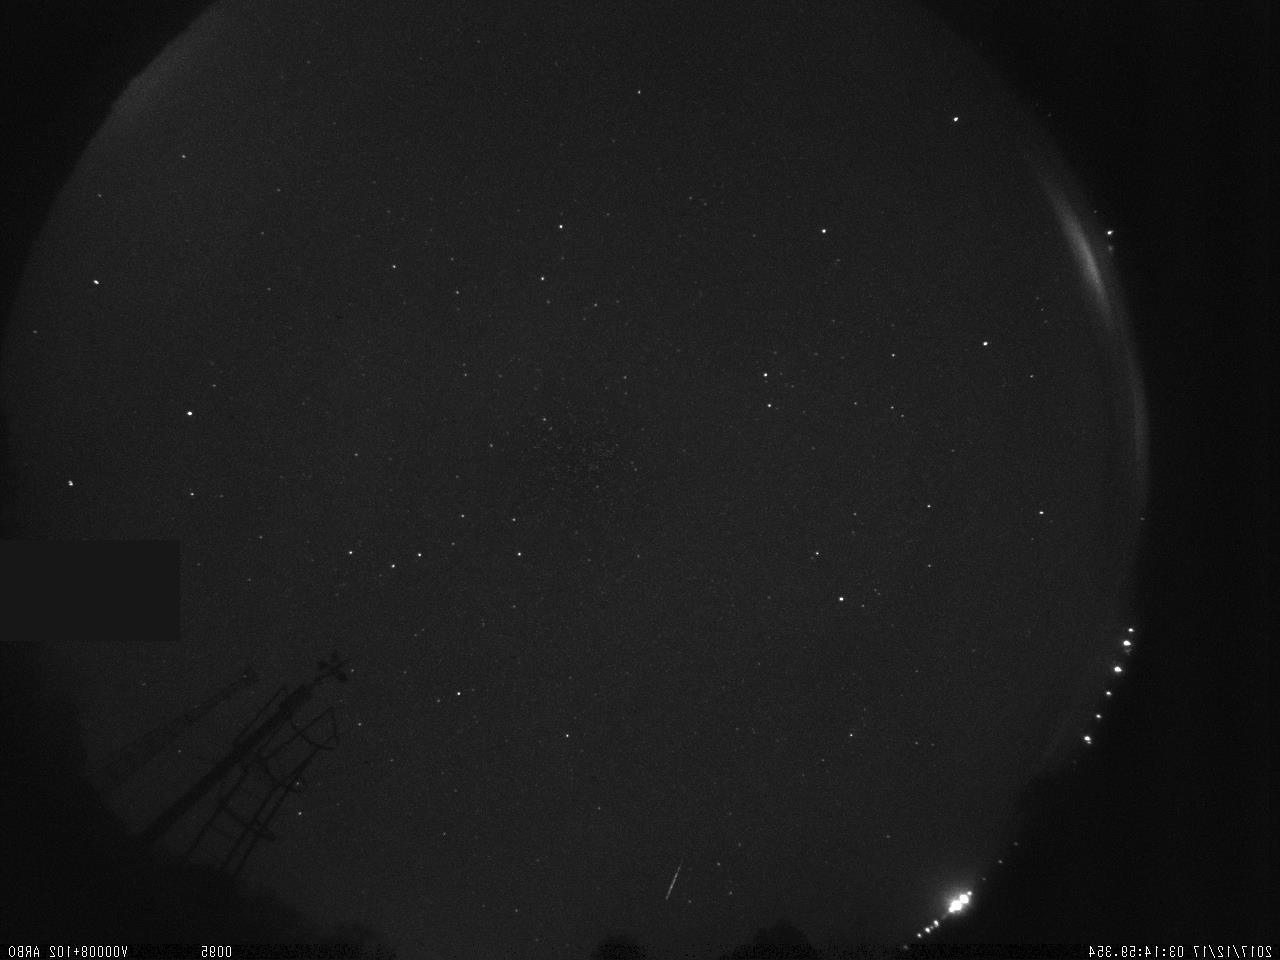meteor: (649, 849, 701, 914)
